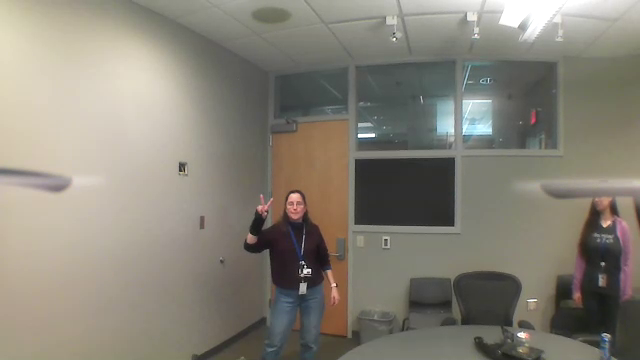peace: (250, 190, 276, 220)
